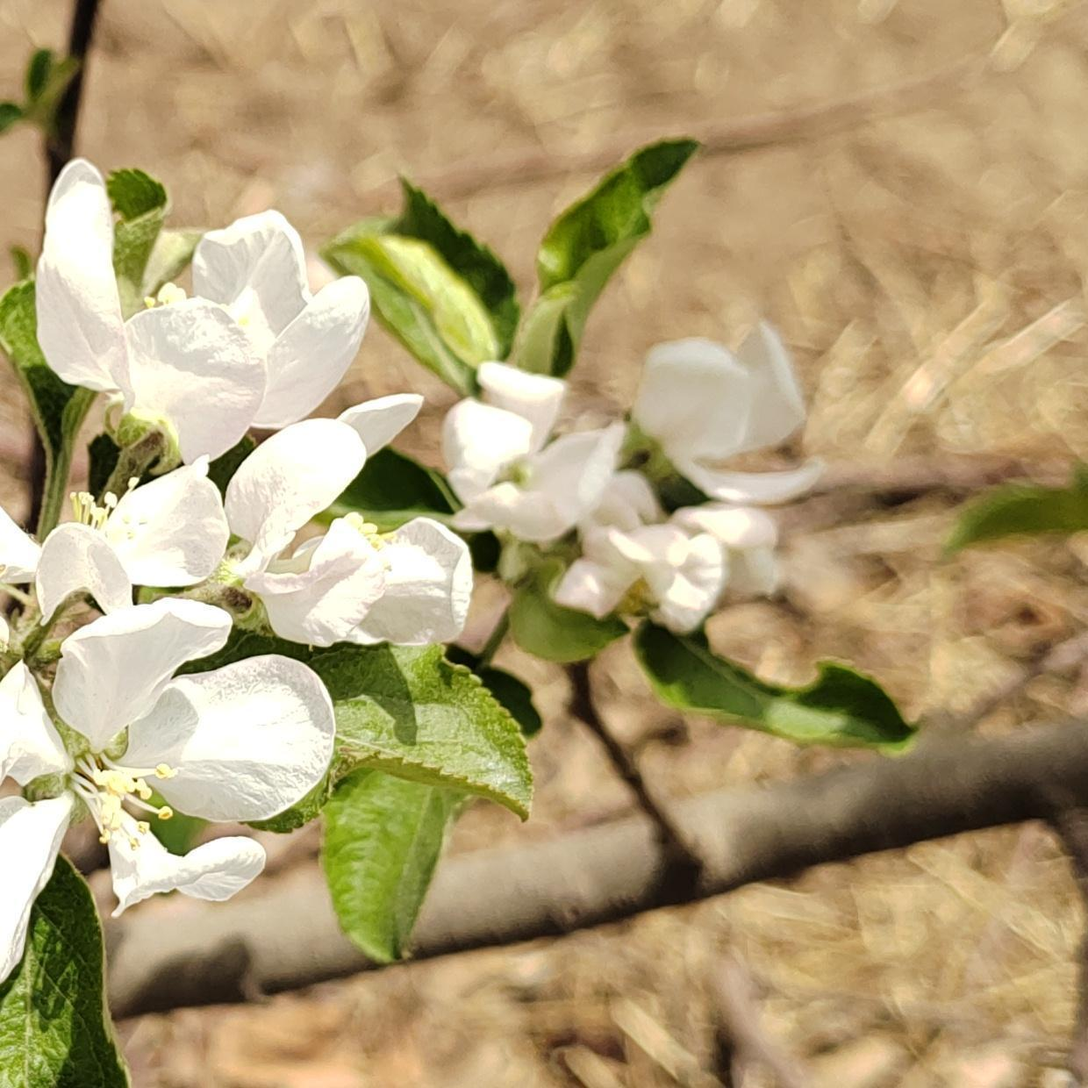apple_flower: (0, 597, 336, 983), (35, 158, 369, 461), (190, 208, 370, 428), (634, 320, 826, 504), (445, 361, 629, 543), (556, 516, 729, 631), (99, 463, 230, 587), (676, 500, 782, 596), (34, 521, 133, 618), (0, 502, 42, 583)
